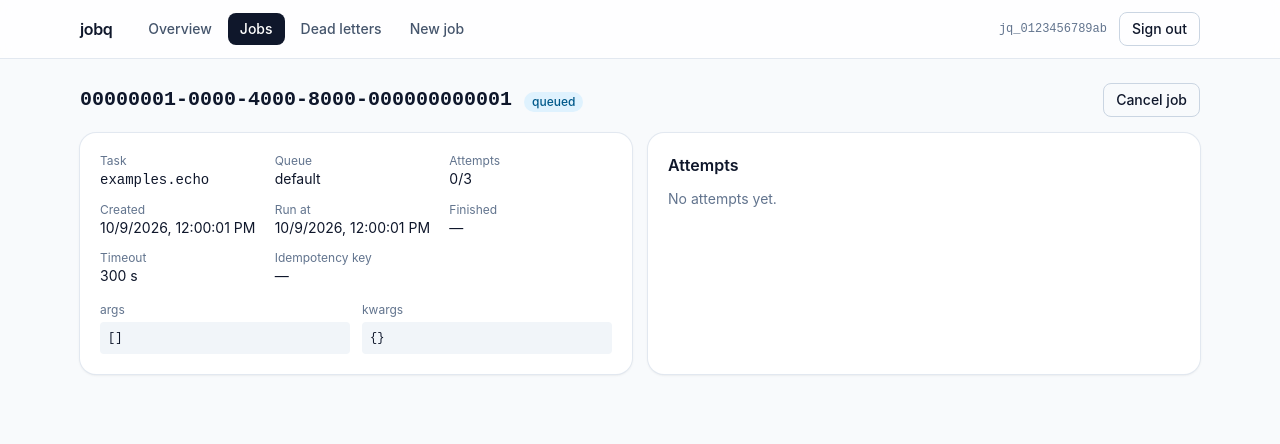
Test: JobPage › shows the API's reason when an action is refused
Click the button "Cancel job": (1152, 100) [1103,83,1200,117]
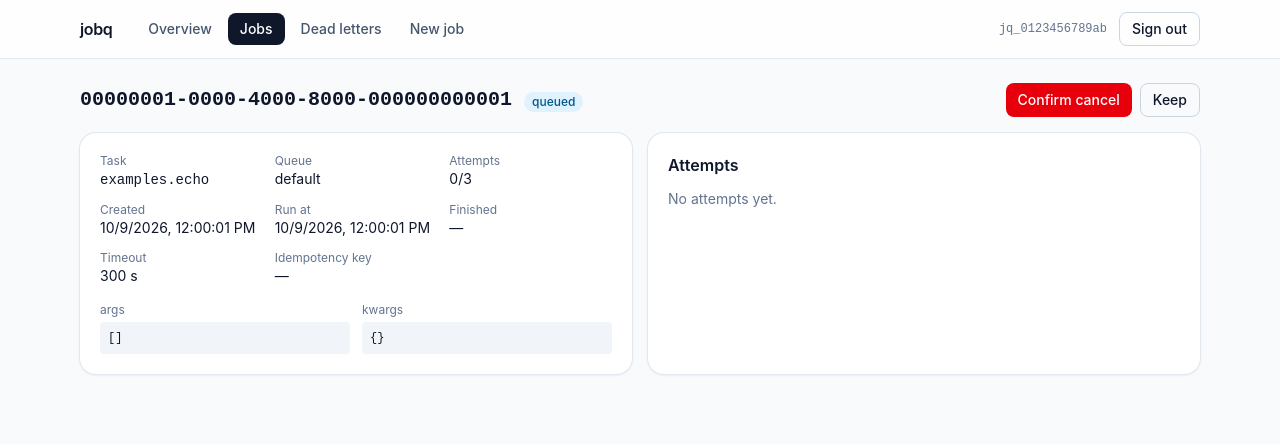
Click the button "Confirm cancel": (1069, 100) [1006,83,1132,117]
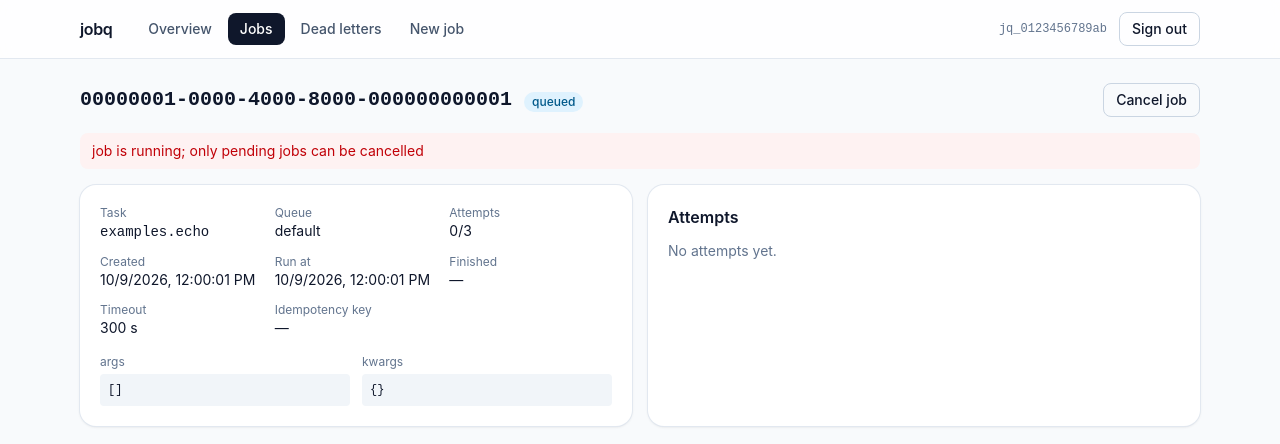
Check: the message shows "only pending jobs can be cancelled", box [92,142,424,159]
